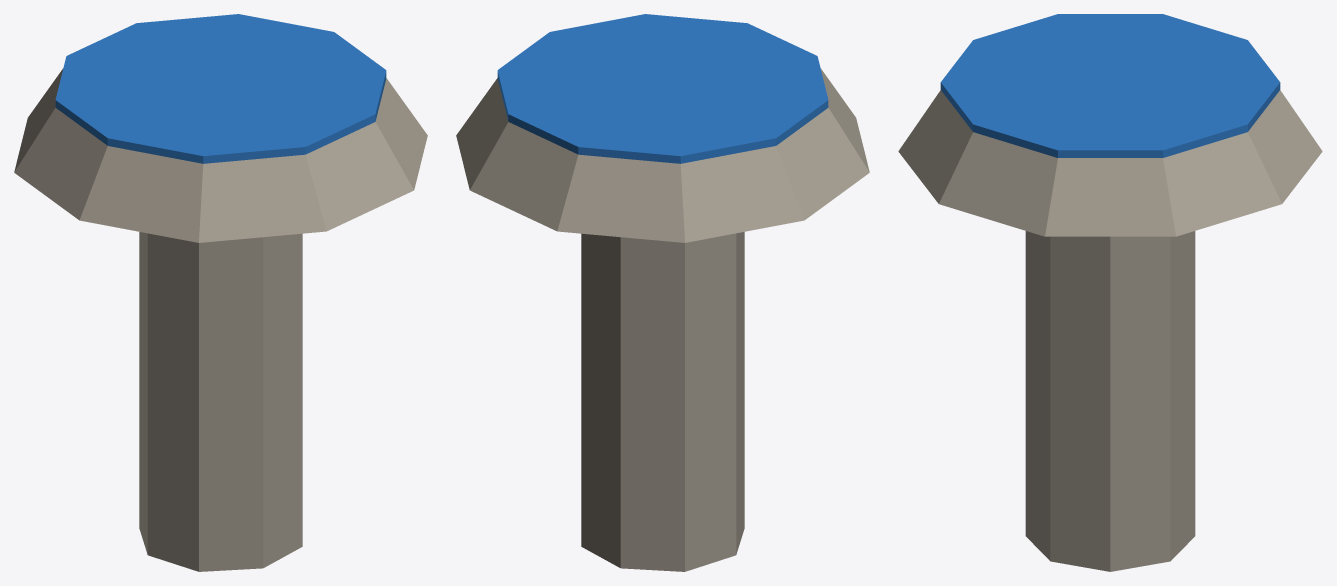
The model's file is garden2_bird_bath.glb.
The picture shows the model from 3 angles, left to right: view 1: azimuth 30°, elevation 25°; view 2: azimuth 150°, elevation 25°; view 3: azimuth 270°, elevation 25°; orthographic projection.
Visible parts, largest first — view 1: bird_bath; view 2: bird_bath; view 3: bird_bath.
Boxes of the visible parts, bbox=[...] form: bird_bath: bbox=[14, 14, 427, 571]; bird_bath: bbox=[456, 14, 869, 571]; bird_bath: bbox=[898, 14, 1322, 571].
Size of the model in its own units: 0.4755 by 0.59 by 0.5.
